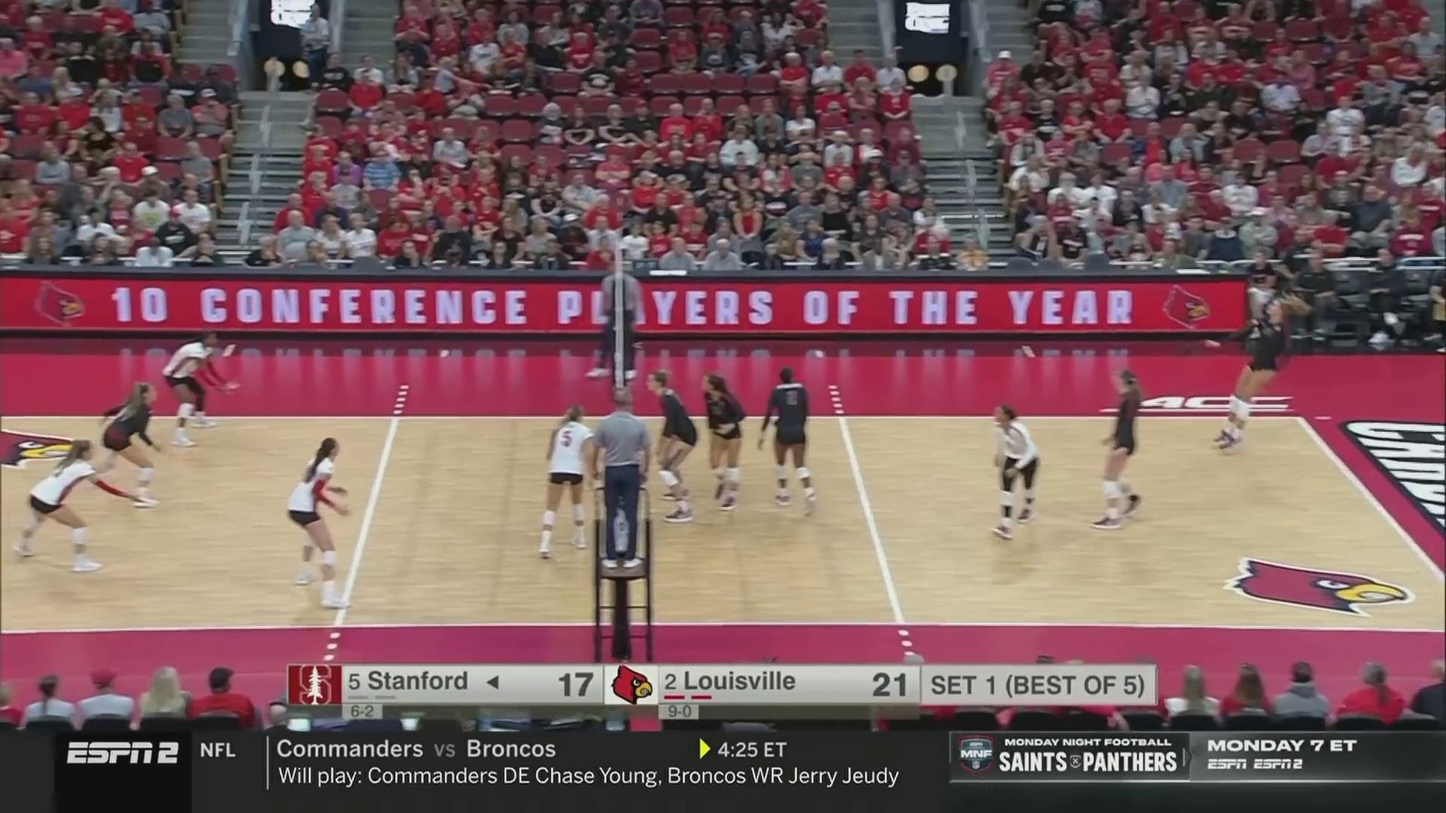player: (14, 432, 142, 569), (1209, 300, 1289, 454), (285, 437, 350, 605), (537, 404, 599, 557), (98, 380, 168, 508), (757, 368, 818, 510), (165, 336, 240, 447), (1094, 371, 1145, 528), (647, 373, 696, 519), (990, 408, 1043, 538), (700, 369, 746, 513)
refree: (594, 390, 651, 567), (595, 262, 640, 378)
